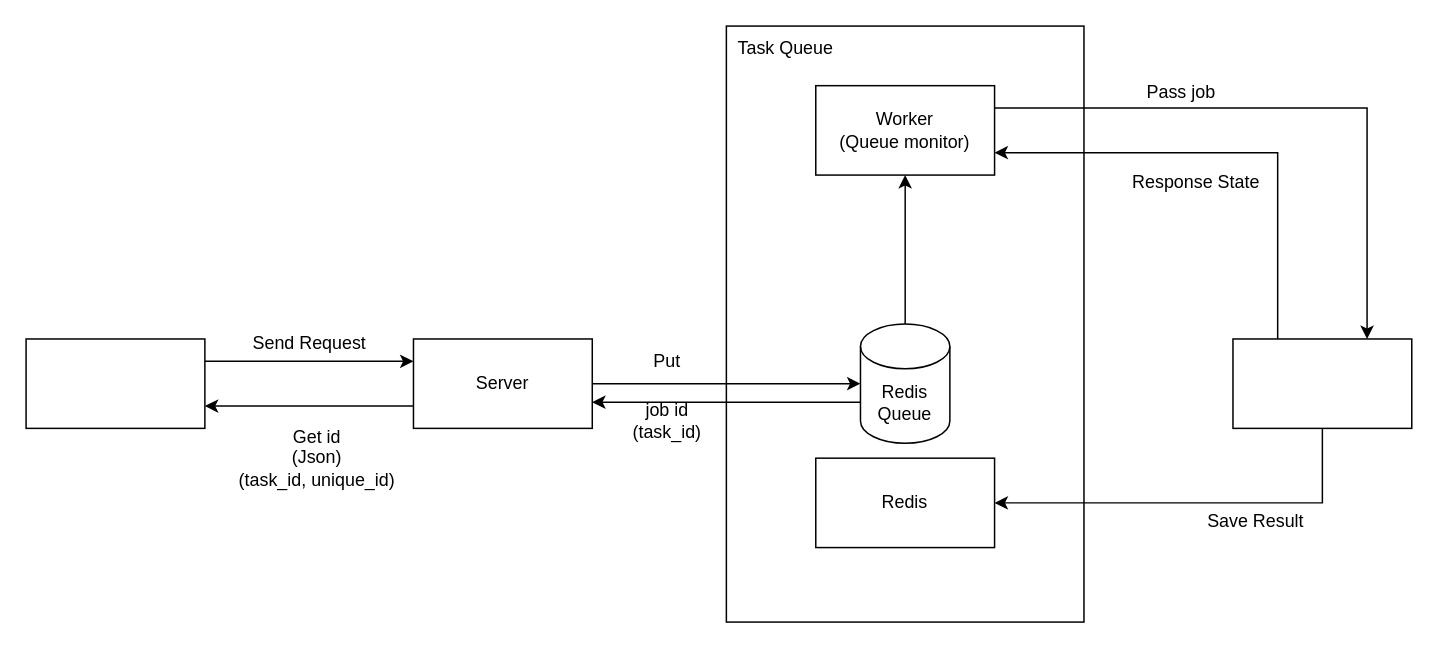
The diagram is 1438 pixels wide and 648 high, and some of its shapes have lost their labels. Each missing label, with the box of its shape:
client: (25, 337, 205, 428)
Text to image: (1231, 337, 1412, 428)
